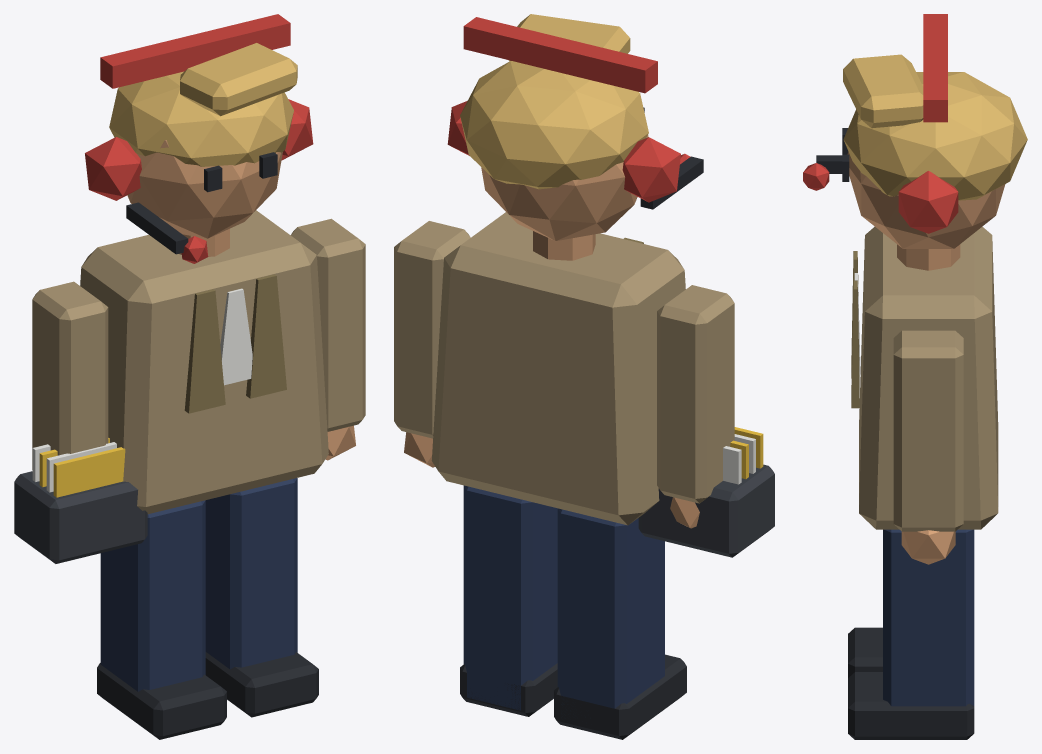
Rendered from coldcaller.glb.
3 views of the same model, side by side, from view 1: azimuth 30°, elevation 25°; view 2: azimuth 150°, elevation 25°; view 3: azimuth 270°, elevation 25° (orthographic). The views are drawn at different scales.
Parts seen in each view (by area): view 1: Body, ArmR, LegR, Props, LegL, ArmL; view 2: Body, ArmR, LegR, LegL, Props, ArmL; view 3: Body, LegL, ArmL, Props, LegR.
Part boxes in pixels (<box>): Body: <box>80,43,328,514</box>; ArmR: <box>14,281,147,563</box>; LegR: <box>97,500,226,739</box>; Props: <box>85,14,313,413</box>; LegL: <box>205,478,318,717</box>; ArmL: <box>290,218,365,460</box>; Body: <box>431,14,685,525</box>; ArmR: <box>638,285,774,557</box>; LegR: <box>554,508,686,739</box>; LegL: <box>460,485,557,716</box>; Props: <box>447,17,703,243</box>; ArmL: <box>394,221,470,467</box>; Body: <box>842,54,1027,529</box>; LegL: <box>848,529,974,739</box>; ArmL: <box>893,330,963,564</box>; Props: <box>803,14,958,408</box>; LegR: <box>848,627,882,677</box>.
Bounding box in the file's own units: 0.5402 × 1.01 × 0.32.
